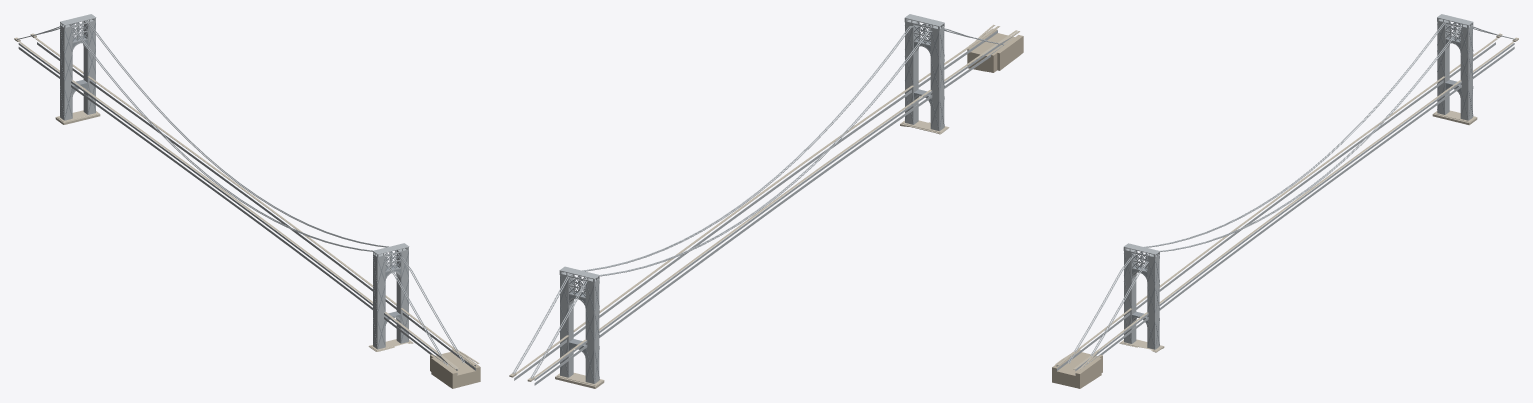
The model's file is nyc-george-washington-bridge.glb.
3 renders of one model, left to right at view 1: azimuth 30°, elevation 25°; view 2: azimuth 150°, elevation 25°; view 3: azimuth 330°, elevation 25°, orthographic. The views are drawn at different scales.
Visible parts, largest first — view 1: George Washington Bridge; view 2: George Washington Bridge; view 3: George Washington Bridge.
Boxes of the visible parts, x1,y1,x2,y2 form: George Washington Bridge: (14,14,480,388); George Washington Bridge: (509,14,1023,388); George Washington Bridge: (1052,14,1518,388).
Size of the model in its own units: 72.4 by 184 by 1505.
